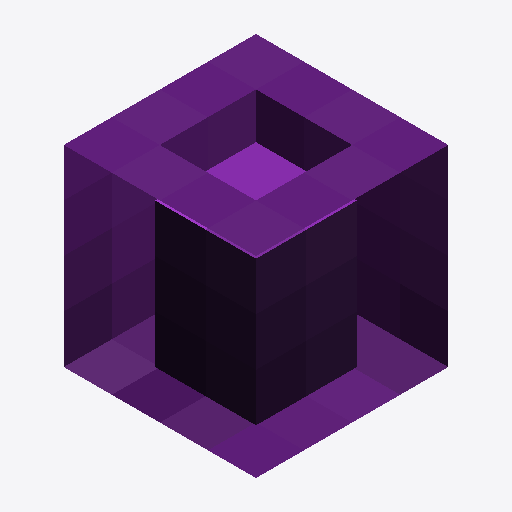
A Minecraft block model of 6 cuboids, rendered isometrically (azimuth 45°, elevation 35.3°) with the resource pack's own textures.
Visible parts, largest first — element 1, element 2, element 5, element 6.
Boxes of the visible parts, x1,y1,x2,y2 form: element 1: [64, 34, 447, 477]; element 2: [155, 201, 255, 424]; element 5: [256, 201, 356, 424]; element 6: [155, 142, 356, 257].
Bounding box in the file's own units: 4 × 4 × 4.